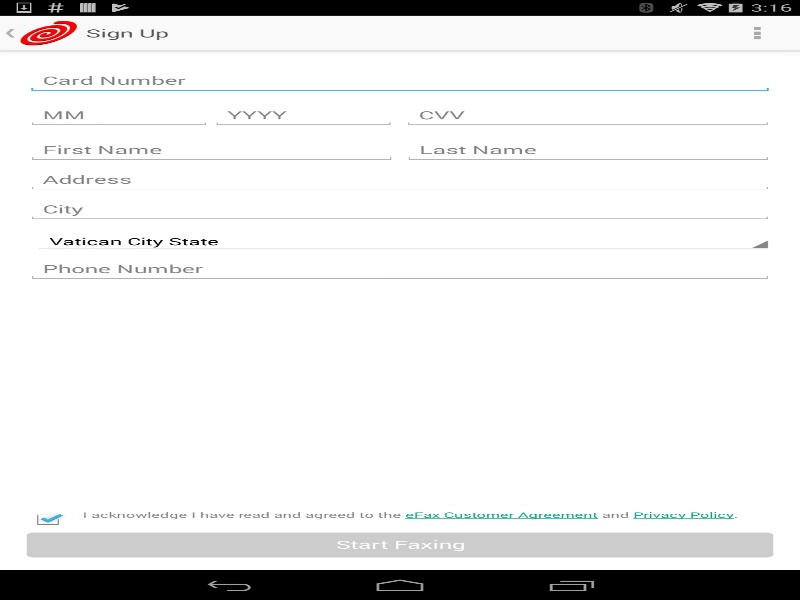Button: (26, 532, 773, 557), (714, 15, 800, 50)
Input: (26, 196, 773, 221), (26, 256, 773, 281), (26, 68, 773, 92), (26, 167, 773, 191), (402, 102, 773, 127), (26, 137, 396, 162), (403, 137, 773, 162), (26, 102, 211, 127), (211, 102, 396, 127)
